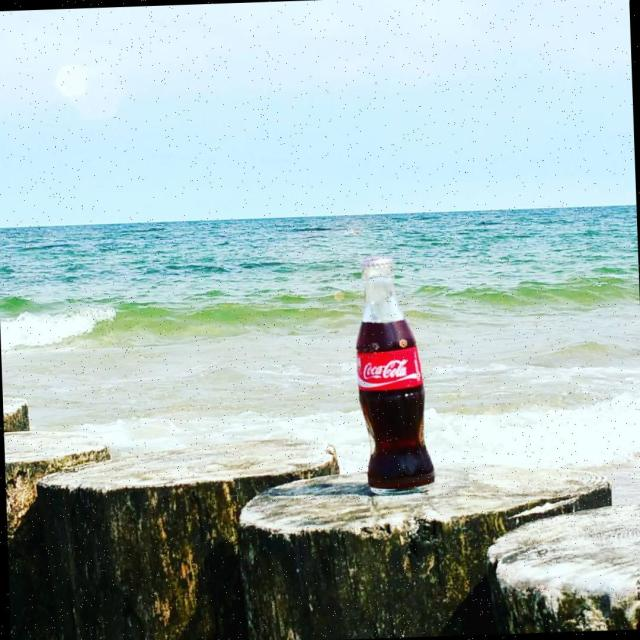coca-cola: (350, 255, 438, 496)
